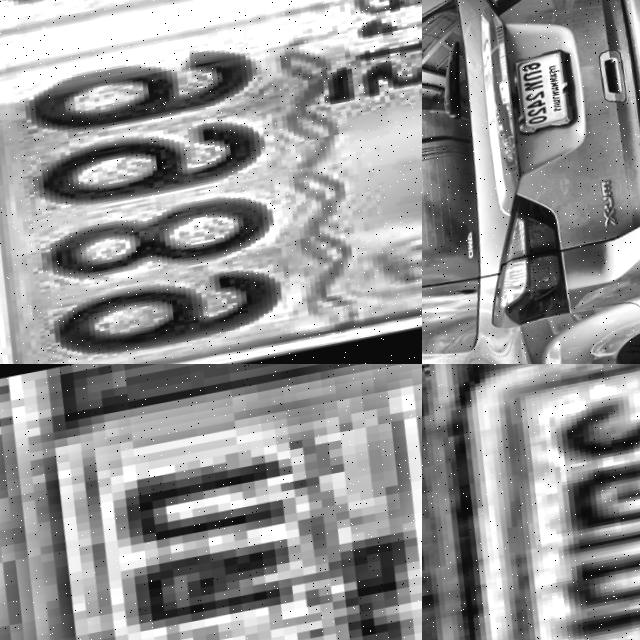license-plate: (0, 0, 422, 364), (0, 364, 422, 640), (422, 364, 640, 640), (505, 47, 587, 137)
